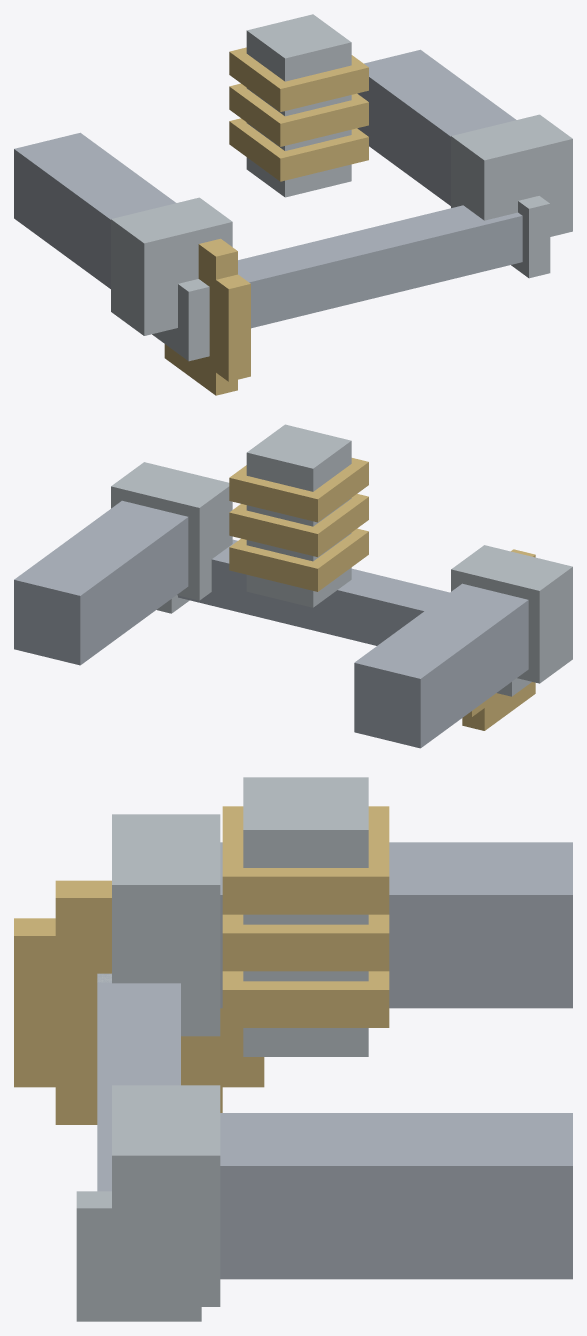
Rendered from arm_item.obj.
The picture shows the model from 3 angles, top to bottom: view 1: azimuth 30°, elevation 25°; view 2: azimuth 150°, elevation 25°; view 3: azimuth 270°, elevation 25°; orthographic projection. The views are drawn at different scales.
Visible parts, largest first — view 1: arm_item; view 2: arm_item; view 3: arm_item.
Part boxes in pixels (x1,y1,x2,y2): arm_item: (14,14,572,395); arm_item: (14,424,572,748); arm_item: (14,777,572,1321).
Bounding box in the file's own units: 1.21 × 0.7125 × 0.8375.
